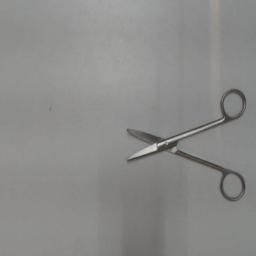Curved Mayo Scissors: (123, 83, 249, 207)
